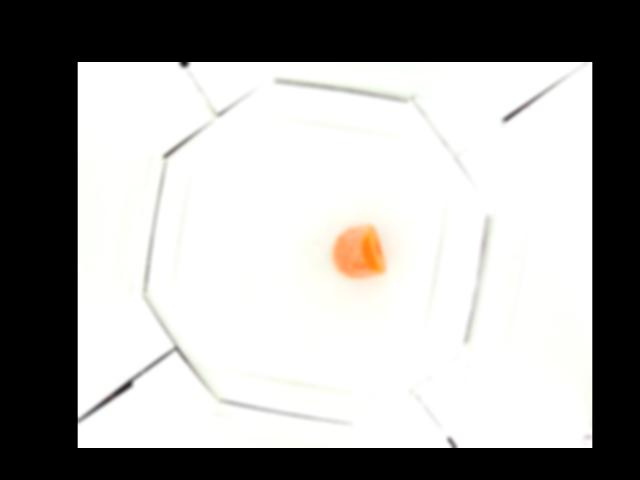Carrot: (332, 225, 384, 278)
